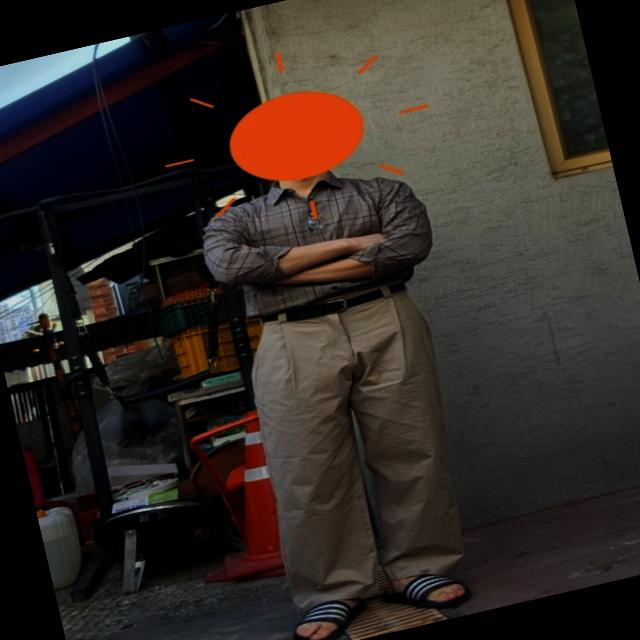cottonpants: (234, 280, 490, 618)
shirt: (196, 150, 448, 326)
